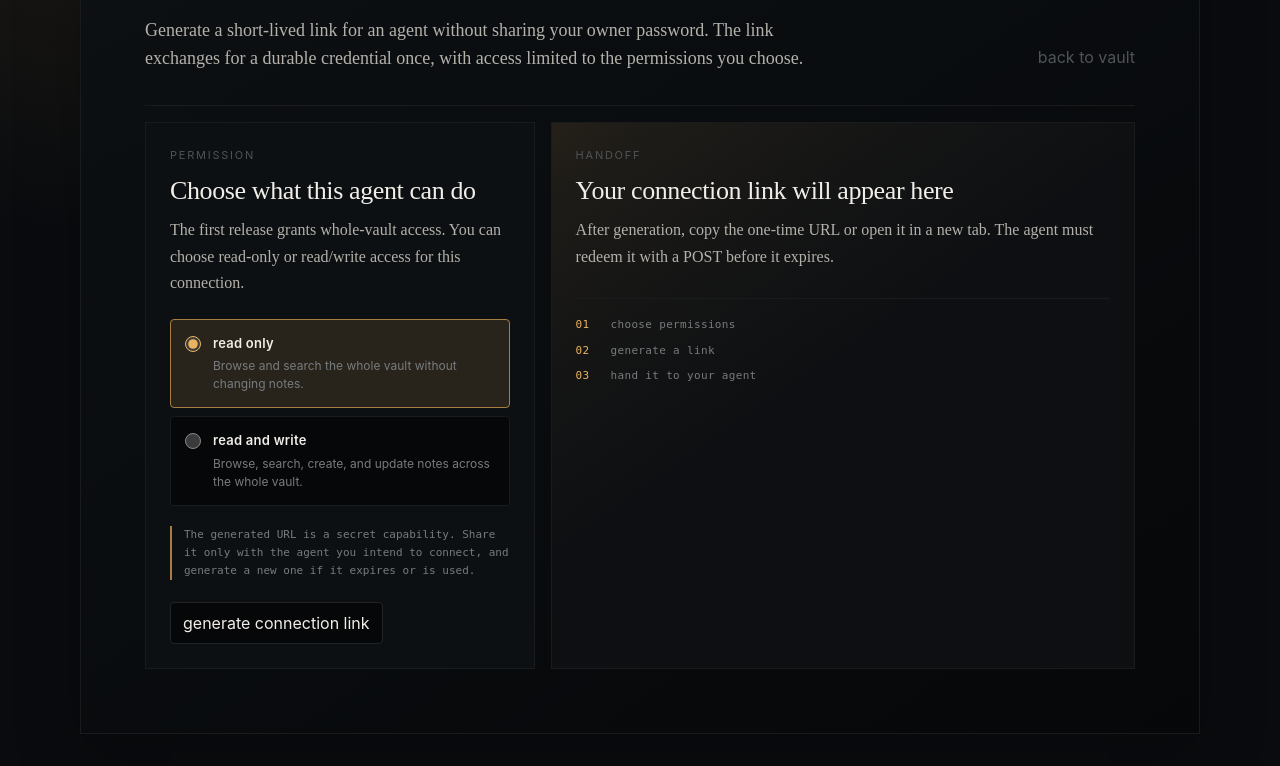
Test: AgentSettingsPage › shows an accessible failure state when copying is unavailable
The width and height of the screenshot is (1280, 766).
(page scrolled)
Click the button "generate connection link": (276, 623) 170,602 -> 383,644
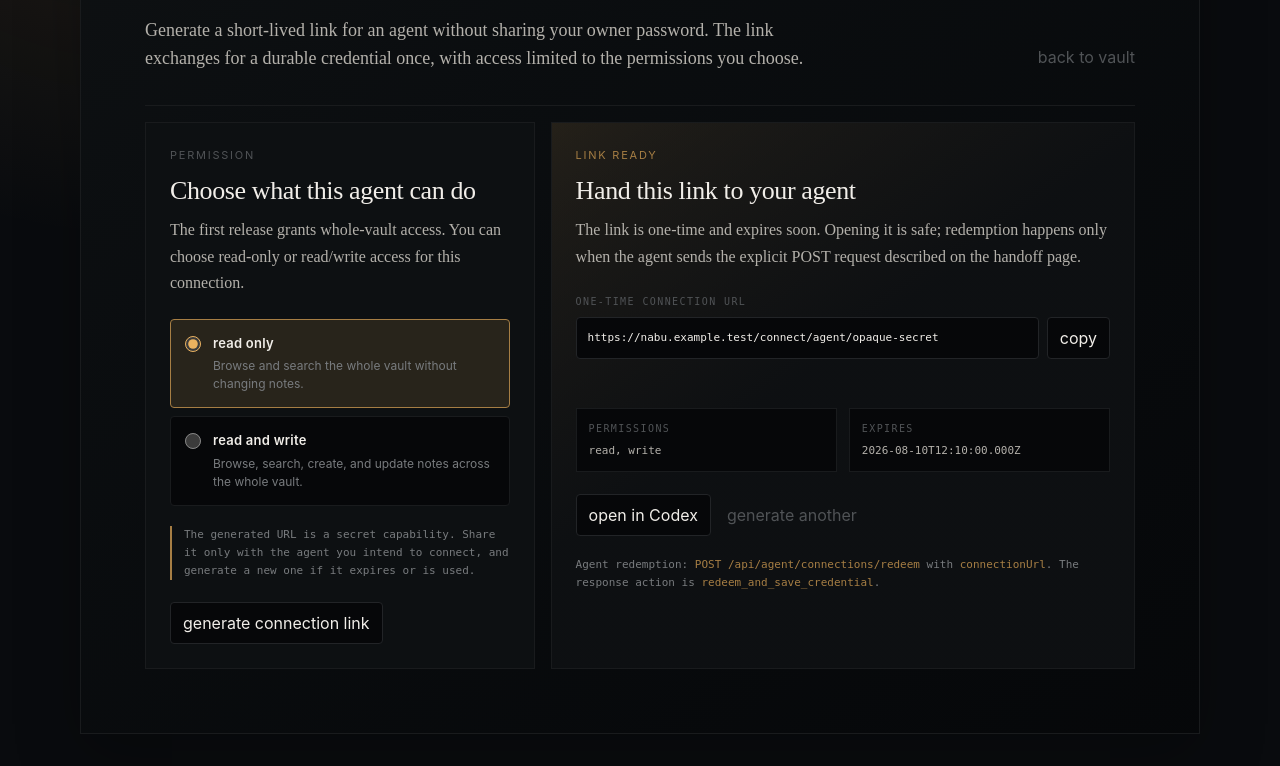
Expected: the field showing "https://nabu.example.test/connect/agent/opaque-secret" is shown, 576,317 -> 1039,359
Click the button with aria-label "copy connection link": (1078, 338) 1047,317 -> 1110,359
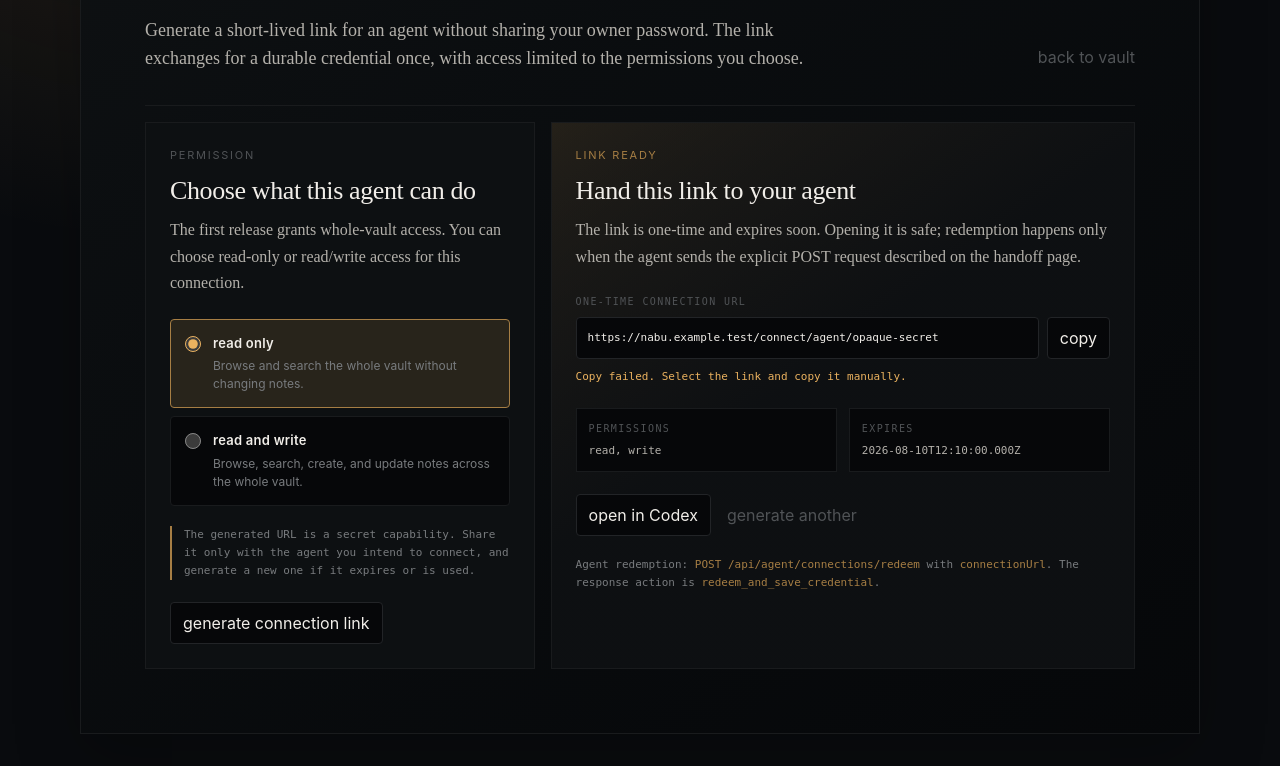
Expected: the text "Copy failed. Select the link and copy it manually." is shown, 576,370 -> 907,383
